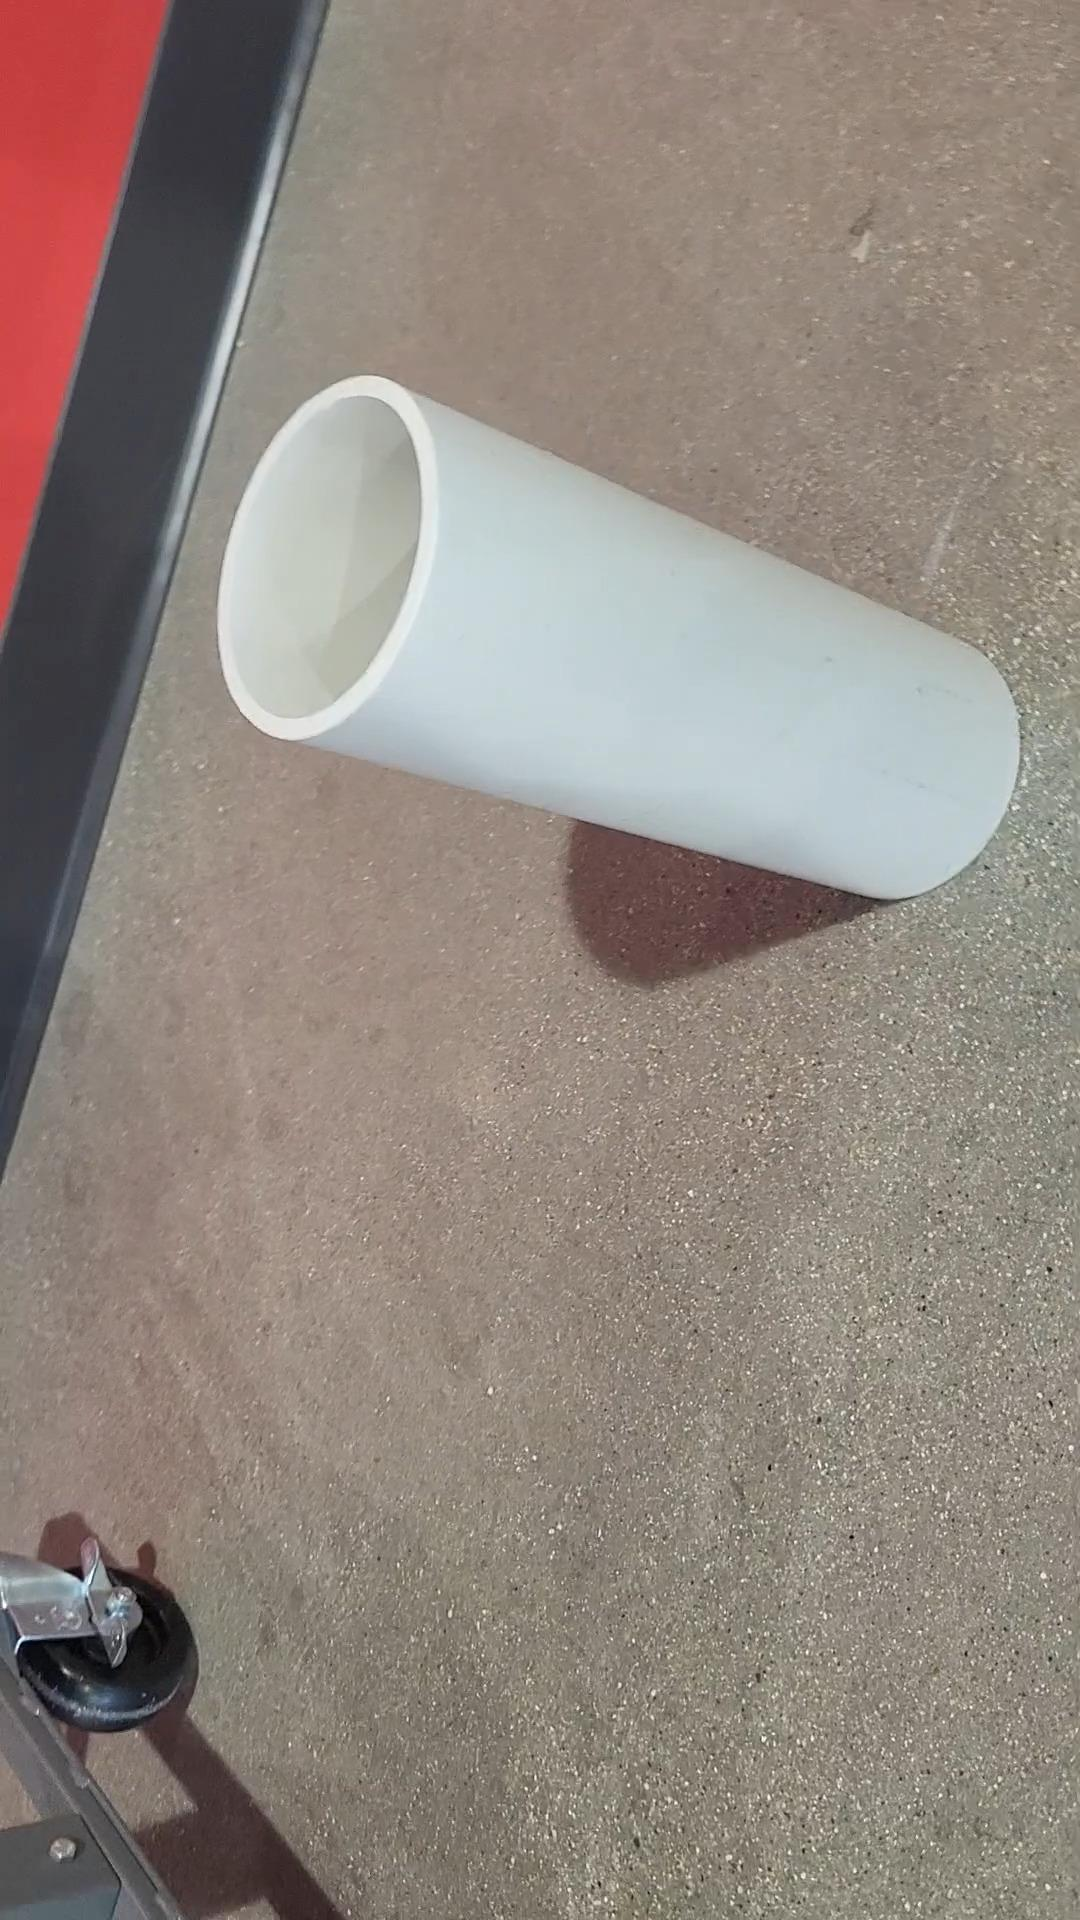coral: (210, 367, 1023, 899)
